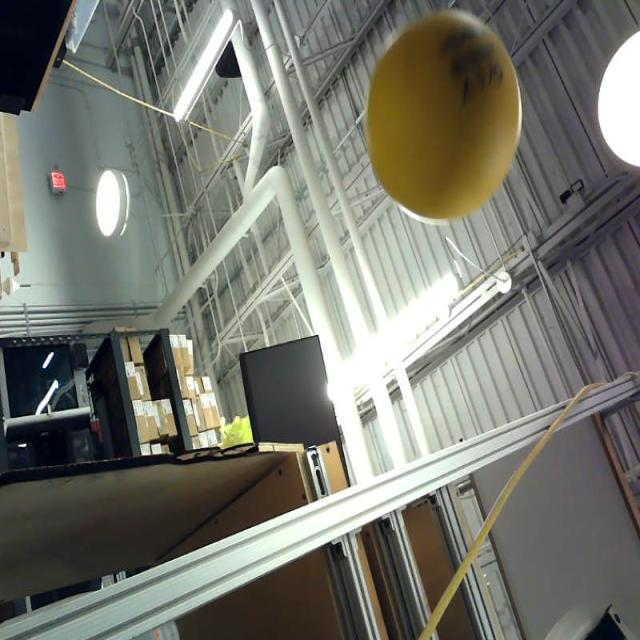Fuel: (366, 10, 520, 220)
